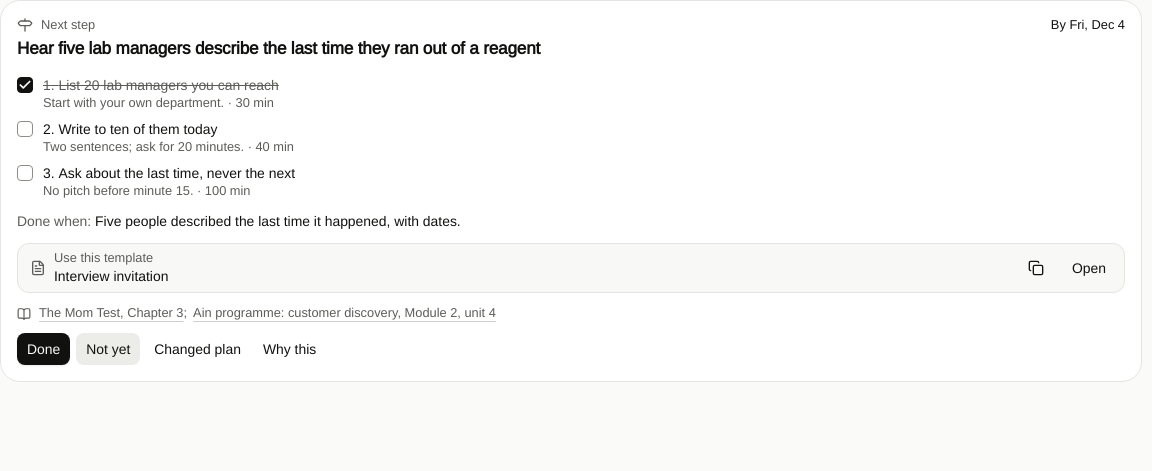
it: StepCard › Changed plan skips it with the reason, and stays skipped where the path no longer lists it
Click the button "Changed plan". click: click(198, 349)
box: top-left (146, 333), bottom-right (249, 365)
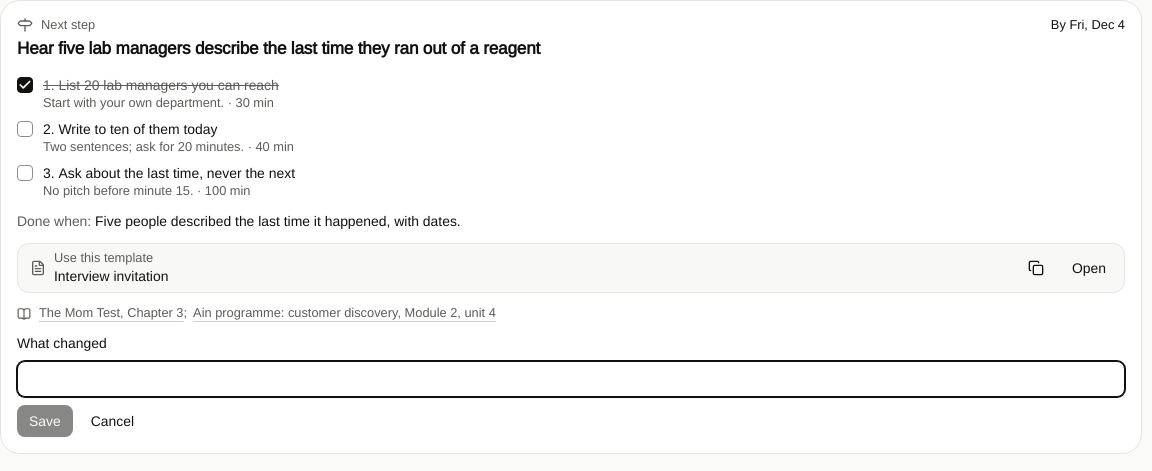
Type "Selling to schools" into the field labelled "What changed". click: (571, 379)
box: top-left (17, 361), bottom-right (1125, 397)
Then press Enter
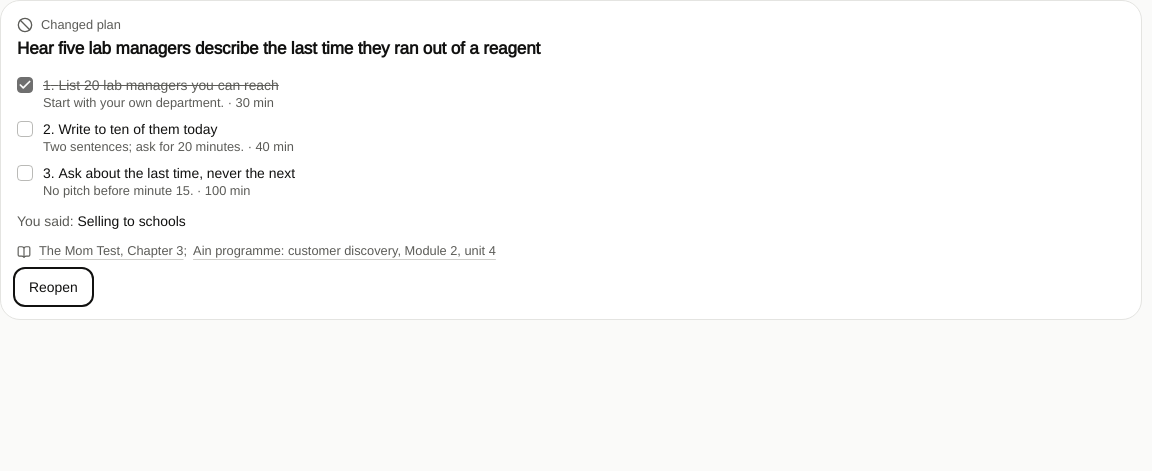
Result: the text "Selling to schools" is shown at top-left (78, 213), bottom-right (186, 229)
Result: the text "Done" is gone
